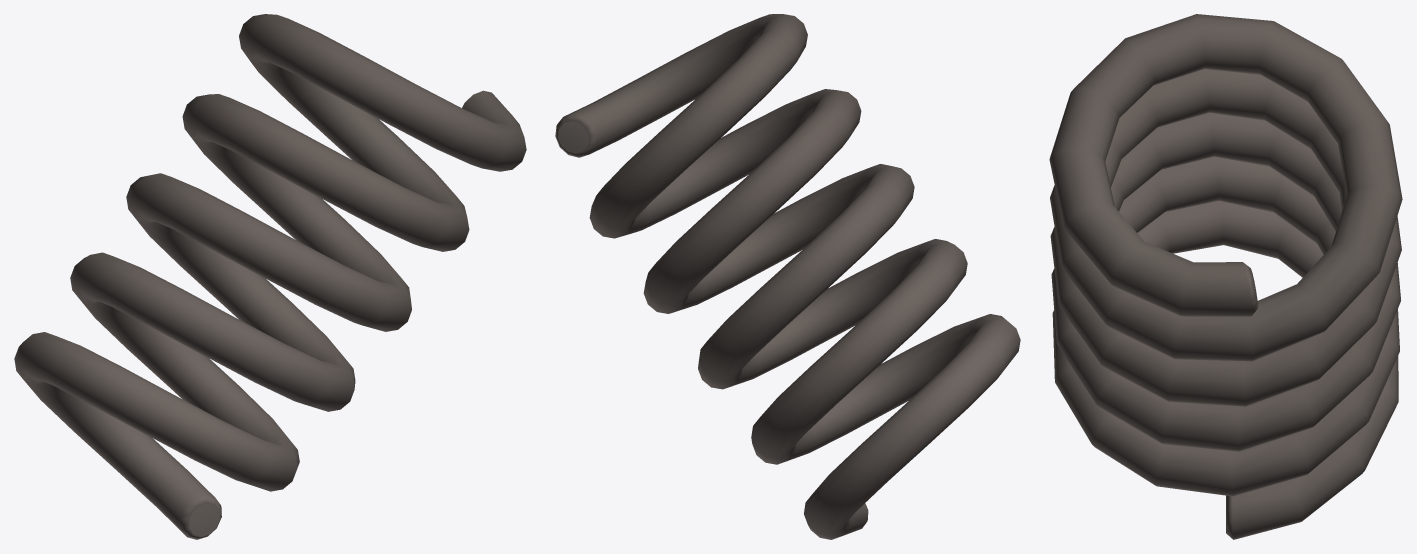
File: Brake_1.fbx
3 views of the same model, side by side, from view 1: azimuth 30°, elevation 25°; view 2: azimuth 150°, elevation 25°; view 3: azimuth 270°, elevation 25° (orthographic). The views are drawn at different scales.
Visible parts, largest first — view 1: Brake_1; view 2: Brake_1; view 3: Brake_1.
Boxes of the visible parts, bbox=[...] form: Brake_1: bbox=[14, 14, 526, 539]; Brake_1: bbox=[555, 14, 1020, 539]; Brake_1: bbox=[1049, 14, 1402, 539].
Bounding box in the file's own units: 42.35 × 43.46 × 24.37.
1 material, 1 textured.
